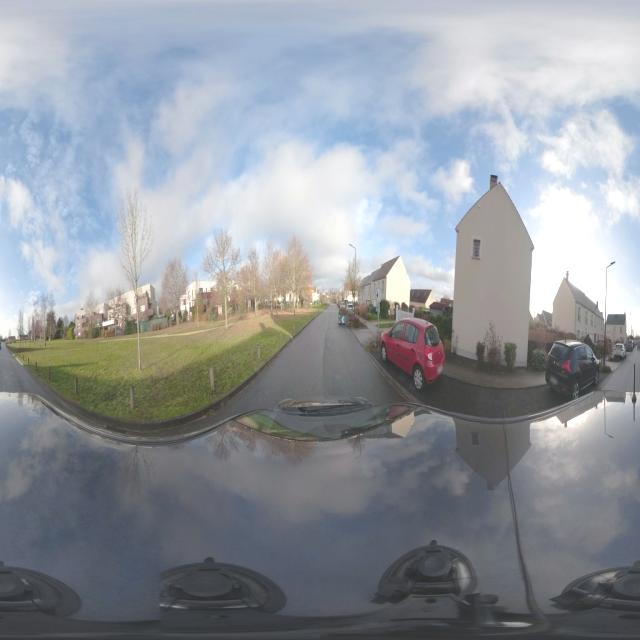car: (378, 317, 446, 392), (545, 340, 600, 400), (612, 341, 626, 361), (626, 336, 634, 352)
